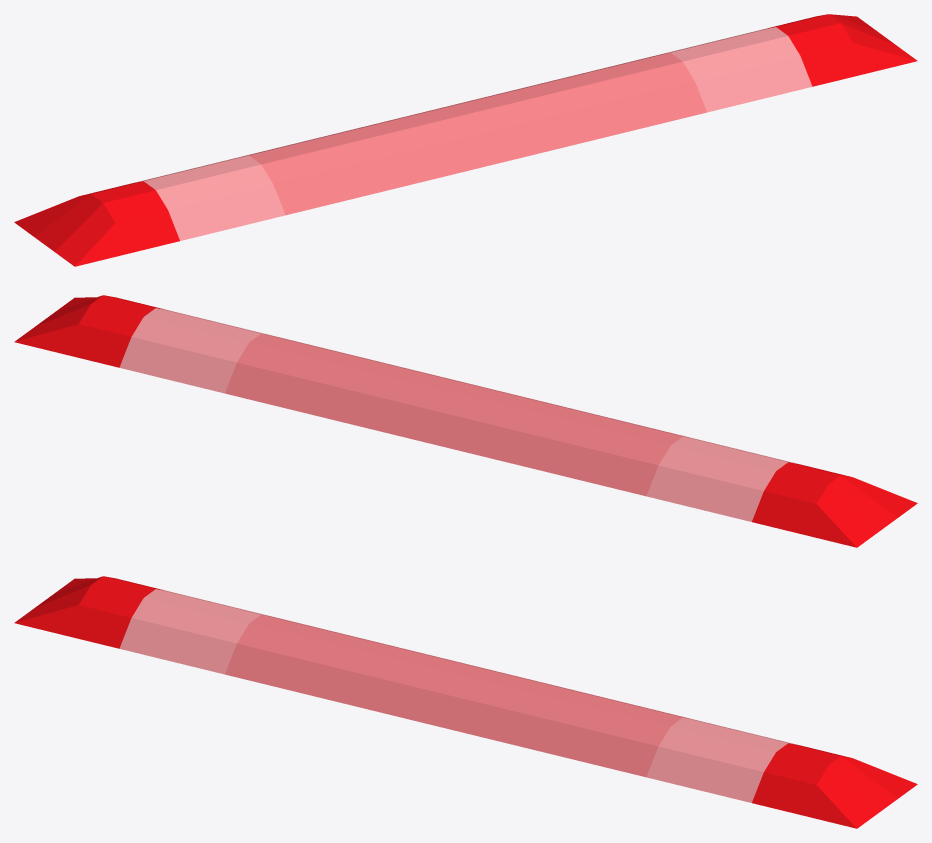
The model's file is speedbump2.fbx.
The picture shows the model from 3 angles, top to bottom: view 1: azimuth 30°, elevation 25°; view 2: azimuth 150°, elevation 25°; view 3: azimuth 330°, elevation 25°; orthographic projection.
Visible parts, largest first — view 1: Speedbump; view 2: Speedbump; view 3: Speedbump.
Part boxes in pixels (box(x1,y1,x2,y2)): Speedbump: box(14, 14, 917, 266); Speedbump: box(14, 295, 917, 547); Speedbump: box(14, 576, 917, 828).
Size of the model in its own units: 8 by 0.3 by 1.
